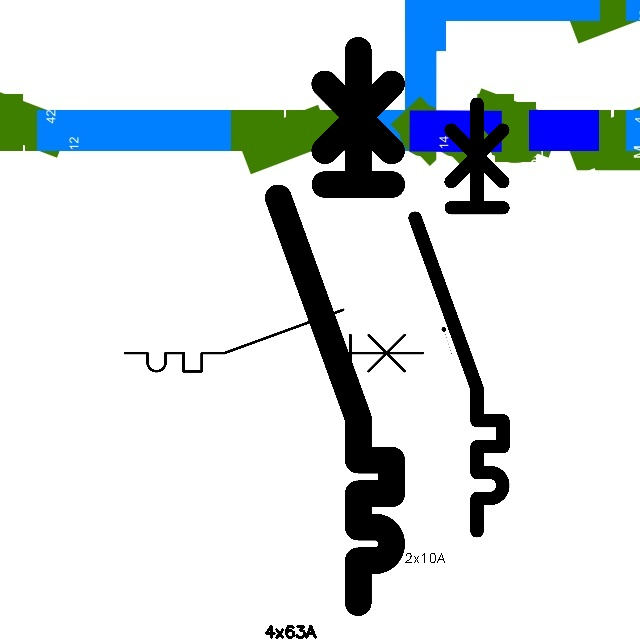interruptor_termomagnetico: (264, 36, 406, 617), (404, 93, 514, 542), (117, 302, 430, 379)
